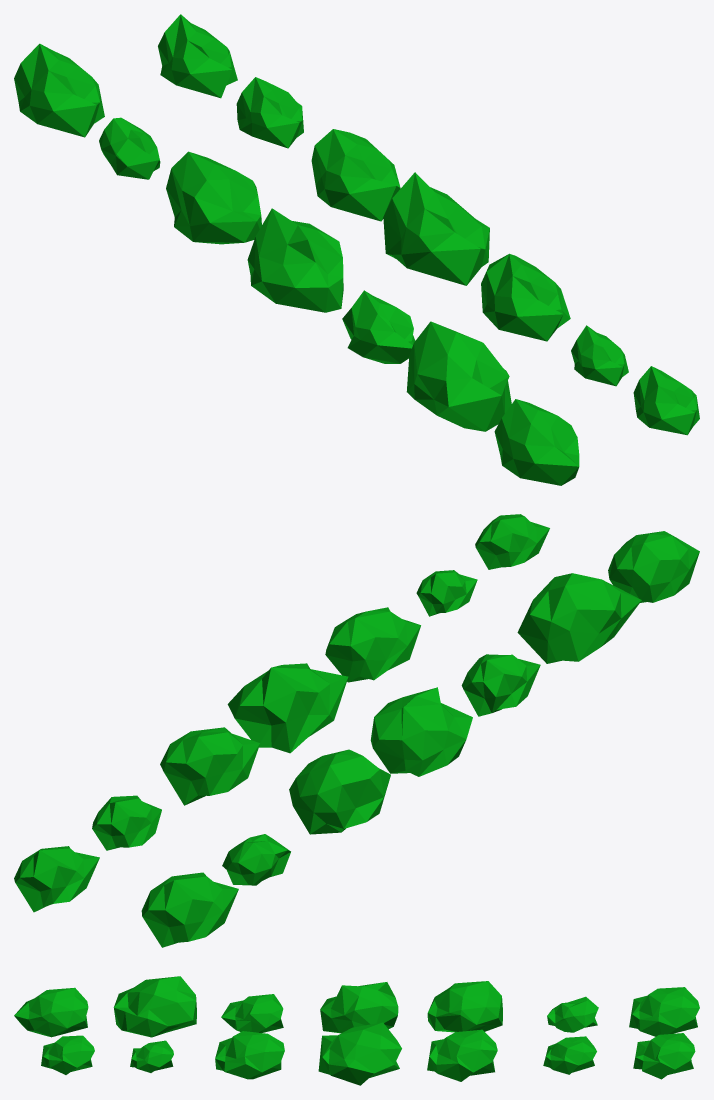
Rendered from bushes.fbx.
The picture shows the model from 3 angles, top to bottom: view 1: azimuth 30°, elevation 25°; view 2: azimuth 150°, elevation 25°; view 3: azimuth 270°, elevation 25°; orthographic projection. The views are drawn at different scales.
Parts seen in each view (by area): view 1: Bush2, Bush11, Bush4, Bush5, Bush10, Bush7, Bush12, Bush1, Bush8, Bush3, Bush9, Bush14 (+2 smaller); view 2: Bush2, Bush11, Bush4, Bush5, Bush10, Bush7, Bush12, Bush1, Bush8, Bush3, Bush14, Bush9 (+2 smaller); view 3: Bush2, Bush11, Bush5, Bush4, Bush10, Bush7, Bush1, Bush12, Bush8, Bush3, Bush14, Bush9 (+2 smaller).
Boxes of the visible parts, <box> form: Bush2: <box>406,321,511,431</box>; Bush11: <box>383,172,489,285</box>; Bush4: <box>247,208,343,312</box>; Bush5: <box>166,151,261,244</box>; Bush10: <box>311,129,400,221</box>; Bush7: <box>14,43,104,137</box>; Bush12: <box>481,253,570,341</box>; Bush1: <box>494,399,579,485</box>; Bush8: <box>158,14,237,98</box>; Bush3: <box>342,290,415,363</box>; Bush9: <box>236,77,303,148</box>; Bush14: <box>633,366,699,435</box>; Bush2: <box>517,573,641,663</box>; Bush11: <box>227,663,348,753</box>; Bush4: <box>370,687,472,776</box>; Bush5: <box>289,749,390,834</box>; Bush10: <box>160,727,260,805</box>; Bush7: <box>141,872,238,947</box>; Bush12: <box>325,607,420,682</box>; Bush1: <box>608,531,699,602</box>; Bush8: <box>14,846,99,912</box>; Bush3: <box>461,654,540,716</box>; Bush14: <box>475,514,549,569</box>; Bush9: <box>92,795,161,850</box>; Bush2: <box>113,976,196,1037</box>; Bush11: <box>318,1022,401,1085</box>; Bush5: <box>427,981,502,1032</box>; Bush4: <box>320,982,398,1033</box>; Bush10: <box>427,1029,497,1081</box>; Bush7: <box>629,987,699,1036</box>; Bush1: <box>14,987,88,1037</box>; Bush12: <box>215,1031,284,1079</box>; Bush8: <box>633,1033,695,1079</box>; Bush3: <box>221,994,283,1032</box>; Bush14: <box>41,1035,94,1074</box>; Bush9: <box>543,1036,596,1074</box>.
Size of the model in its own units: 556 by 199 by 2270.
